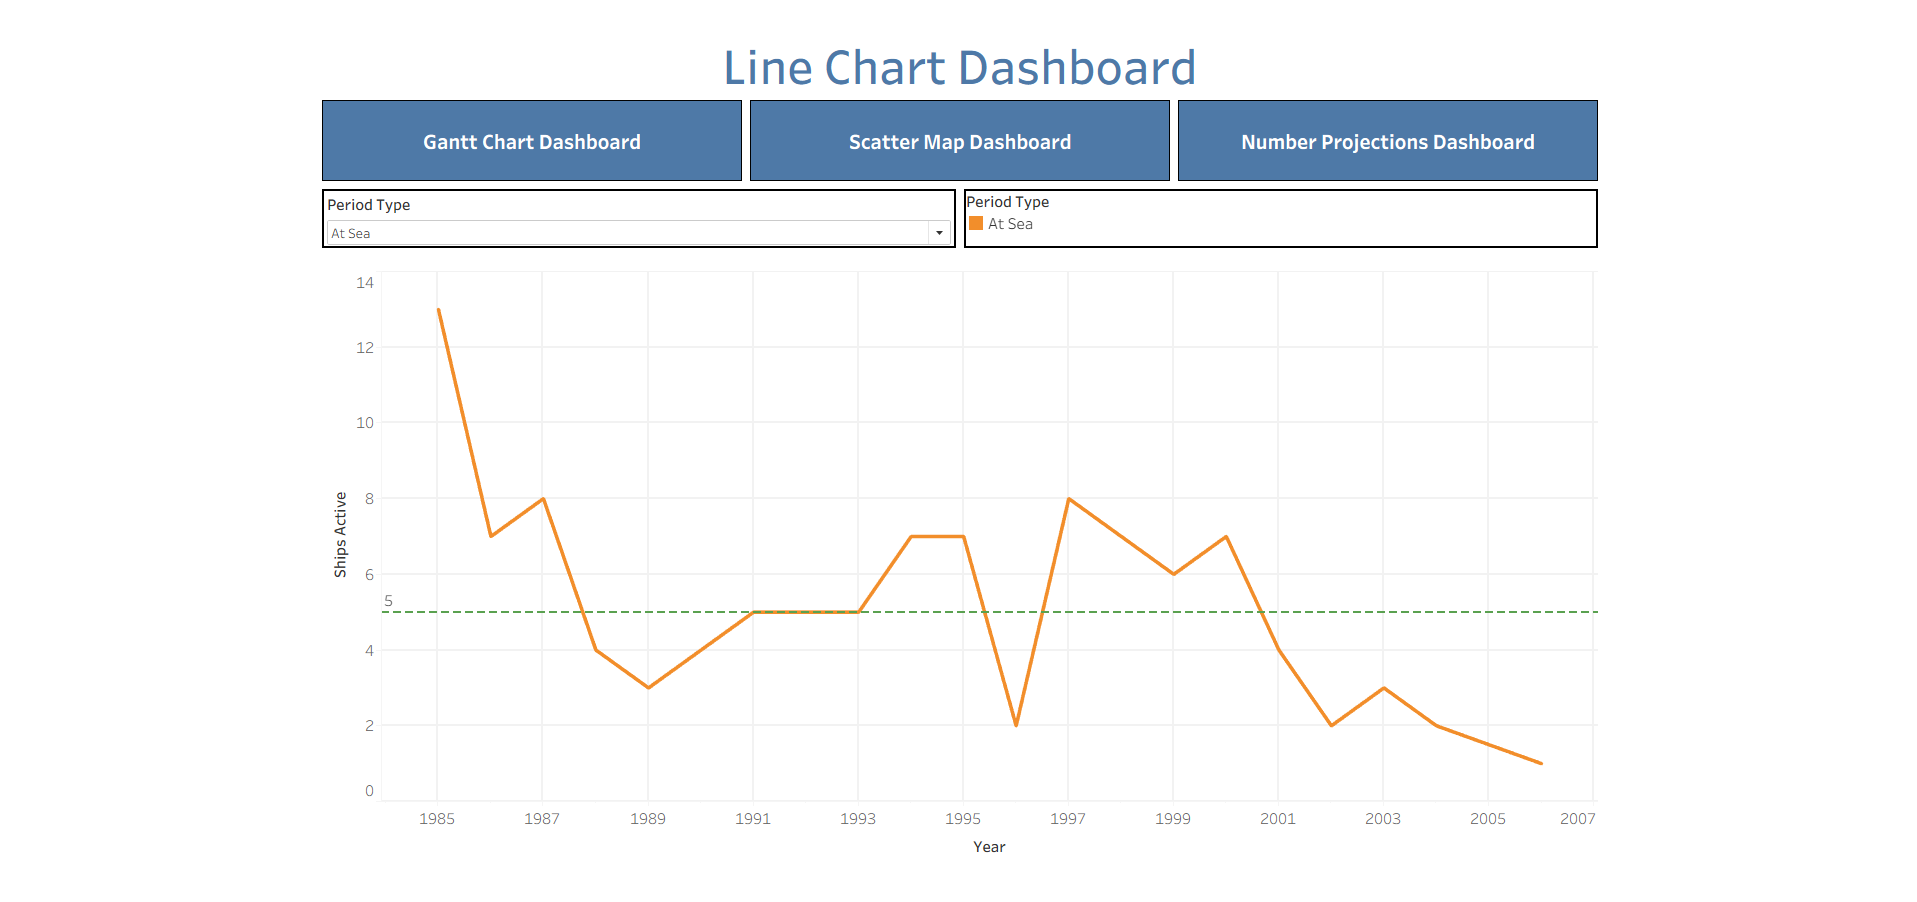

The page's visual inventory and layout, read from the dashboard file:
{"tool":"tableau","page":{"name":"Line Chart Dashboard","canvas":[1300,850],"ordinal":2},"visuals":[{"type":"text","box":[8,8,1284,61.7]},{"type":"dashboard-object","box":[8,70,428,83]},{"type":"dashboard-object","box":[436,70,428,83]},{"type":"dashboard-object","box":[864,70,428,83]},{"type":"worksheet","title":"Line Chart","mark":"Line","rows":["Calculation_5596285494921445384"],"cols":["Calculation_5596285494920974343"],"box":[8,153,1284,641]},{"type":"filter","title":"Line Chart","param":"[federated.1dbesl90ko1xc2151ipvv121hvmx].[none:Period Type:nk]","box":[8,794,642,48]},{"type":"legend","title":"Line Chart","param":"[federated.1dbesl90ko1xc2151ipvv121hvmx].[none:Period Type:nk]","box":[650,794,642,48]}]}

Visuals, with their boxes on the page's 1300x850 design canvas (x1, y1, x2, y2). These are canvas units, not pixel positions in the 1917x902 screenshot, which may show the page scaled, cropped or inside an application window:
text: [left=8, top=8, right=1292, bottom=70]
dashboard-object: [left=8, top=70, right=436, bottom=153]
dashboard-object: [left=436, top=70, right=864, bottom=153]
dashboard-object: [left=864, top=70, right=1292, bottom=153]
"Line Chart" worksheet (Line marks): [left=8, top=153, right=1292, bottom=794]
"Line Chart" filter: [left=8, top=794, right=650, bottom=842]
"Line Chart" legend: [left=650, top=794, right=1292, bottom=842]
